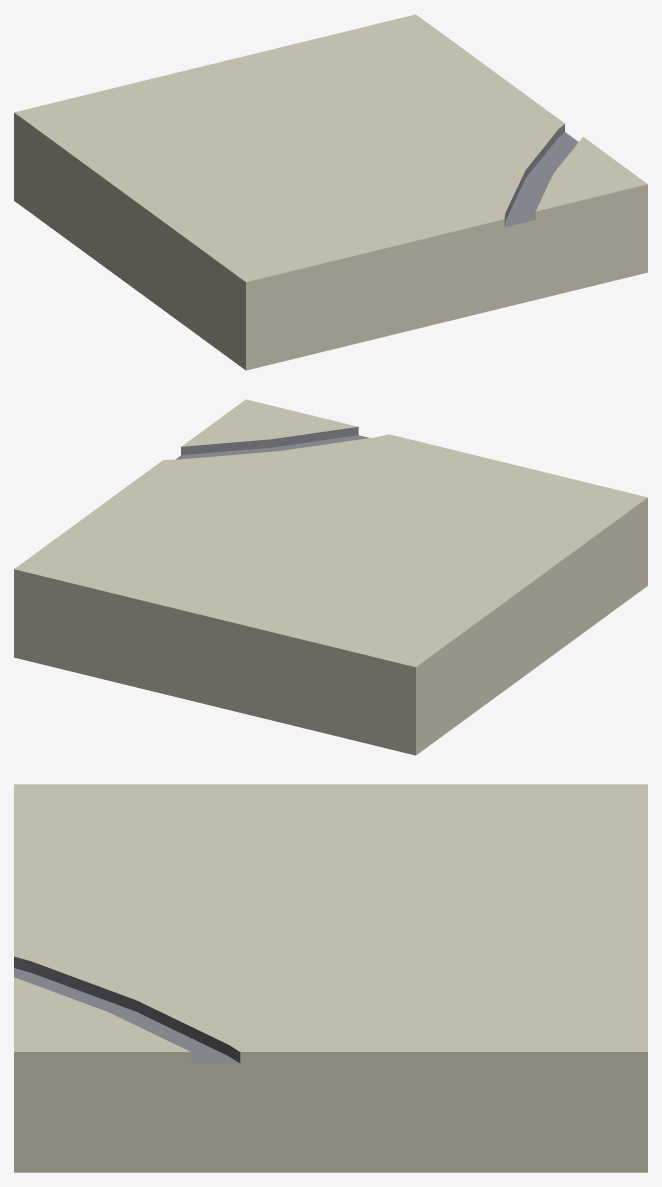
Rendered from tile252.dae.
The picture shows the model from 3 angles, top to bottom: view 1: azimuth 30°, elevation 25°; view 2: azimuth 150°, elevation 25°; view 3: azimuth 270°, elevation 25°; orthographic projection. The views are drawn at different scales.
Parts seen in each view (by area): view 1: tile252; view 2: tile252; view 3: tile252.
Boxes of the visible parts, <box> form: tile252: <box>14,14,647,370</box>; tile252: <box>14,399,647,755</box>; tile252: <box>14,784,647,1172</box>.
Size of the model in its own units: 1 by 0.21 by 1.
